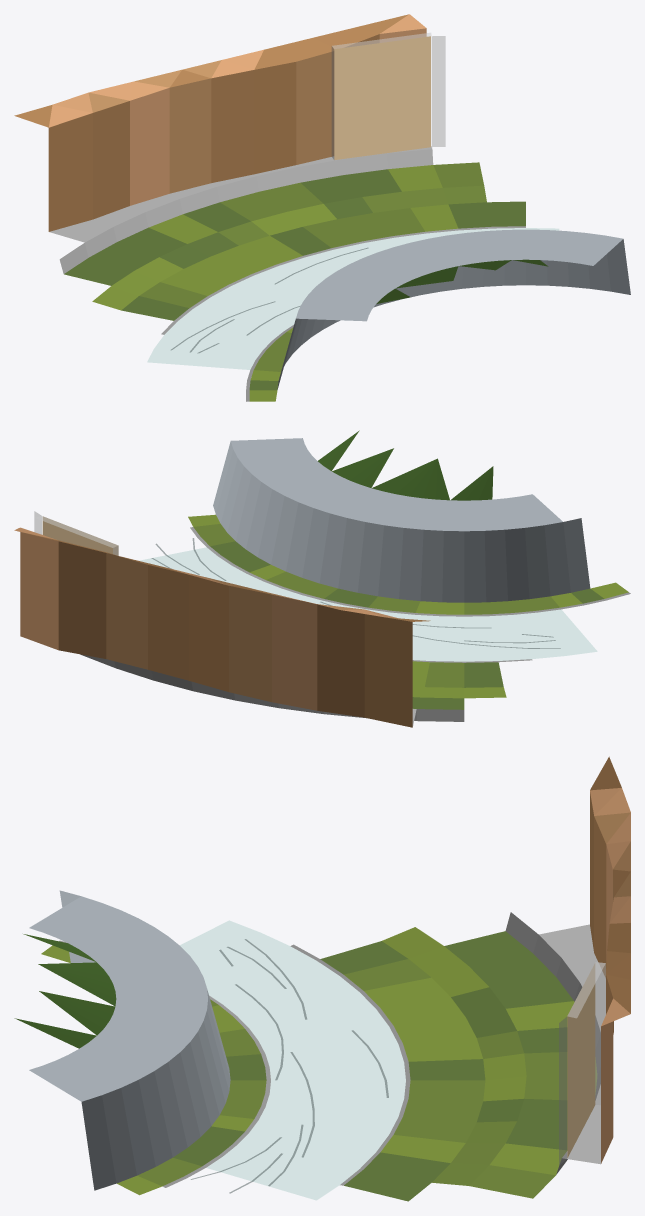
The model's file is export_00013FCE.obj.
3 views of the same model, one above another, from view 1: azimuth 30°, elevation 25°; view 2: azimuth 150°, elevation 25°; view 3: azimuth 270°, elevation 25° (orthographic). The views are drawn at different scales.
Visible parts, largest first — view 1: O13FCE; view 2: O13FCE; view 3: O13FCE.
Part boxes in pixels (left/top/right/bottom): O13FCE: left=14, top=14, right=630, bottom=401; O13FCE: left=14, top=430, right=630, bottom=727; O13FCE: left=14, top=756, right=630, bottom=1201.
Bounding box in the file's own units: 149 × 42.5 × 137.
